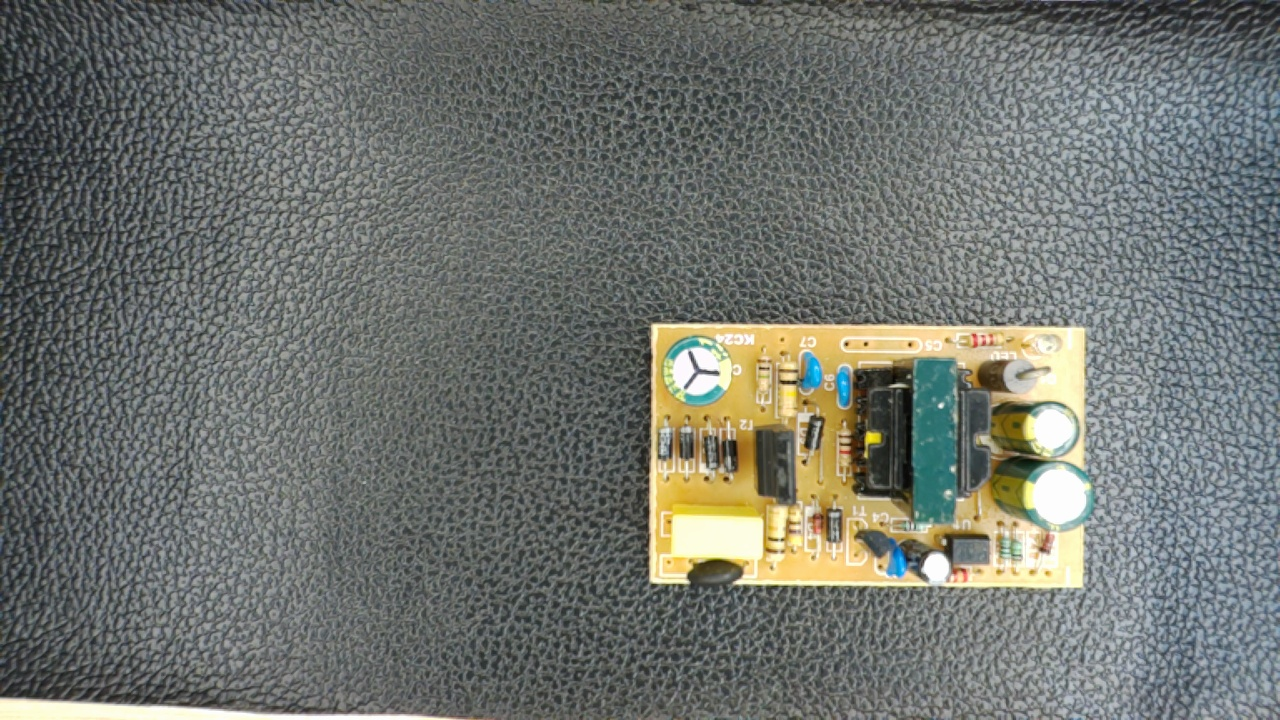fuse: (678, 549, 761, 591)
hv_capacitor: (657, 333, 738, 408)
optocoupler: (941, 528, 1001, 570)
